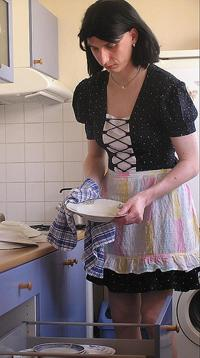person: (73, 2, 200, 338)
